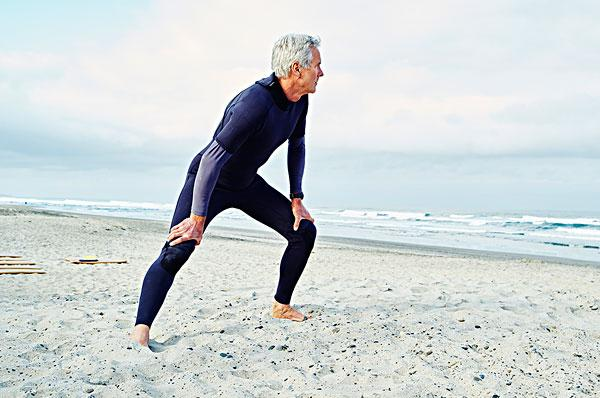standing: (133, 31, 325, 347)
